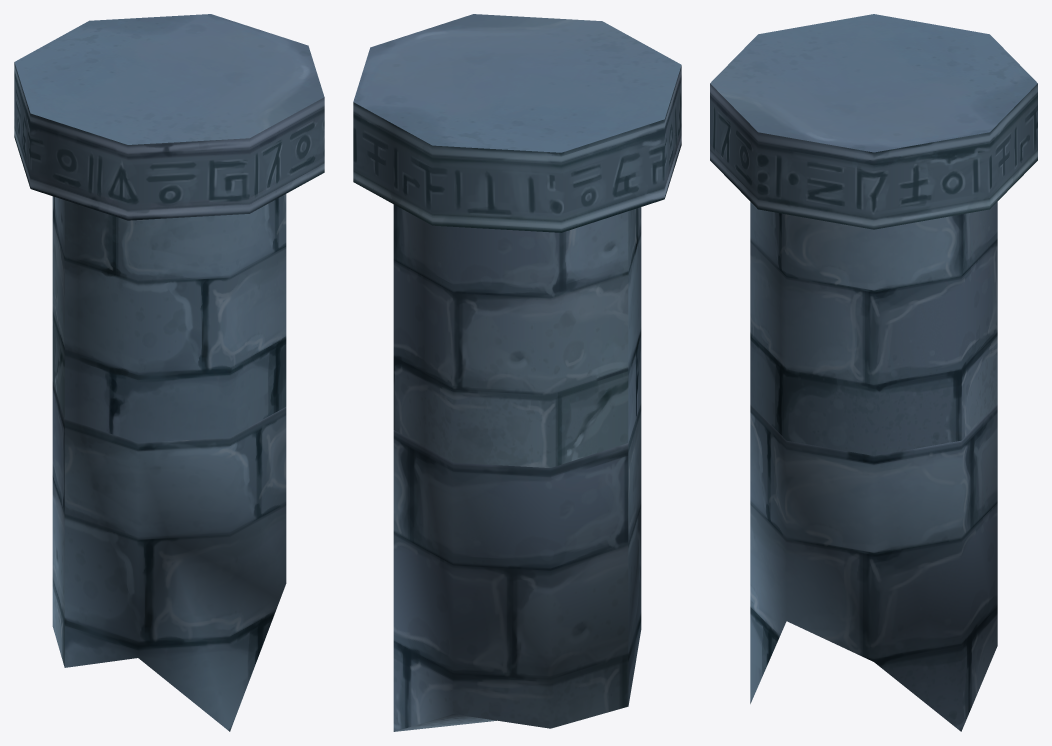
Rendered from msh_props_.Poutre.001.fbx.
The picture shows the model from 3 angles, left to right: view 1: azimuth 30°, elevation 25°; view 2: azimuth 150°, elevation 25°; view 3: azimuth 270°, elevation 25°; orthographic projection. The views are drawn at different scales.
Visible parts, largest first — view 1: msh_props_.Poutre.001; view 2: msh_props_.Poutre.001; view 3: msh_props_.Poutre.001.
Part boxes in pixels (x1,y1,x2,y2): msh_props_.Poutre.001: (14, 14, 324, 731); msh_props_.Poutre.001: (353, 14, 681, 731); msh_props_.Poutre.001: (710, 14, 1037, 731).
Bounding box in the file's own units: 0.7088 × 1.48 × 0.7088.
